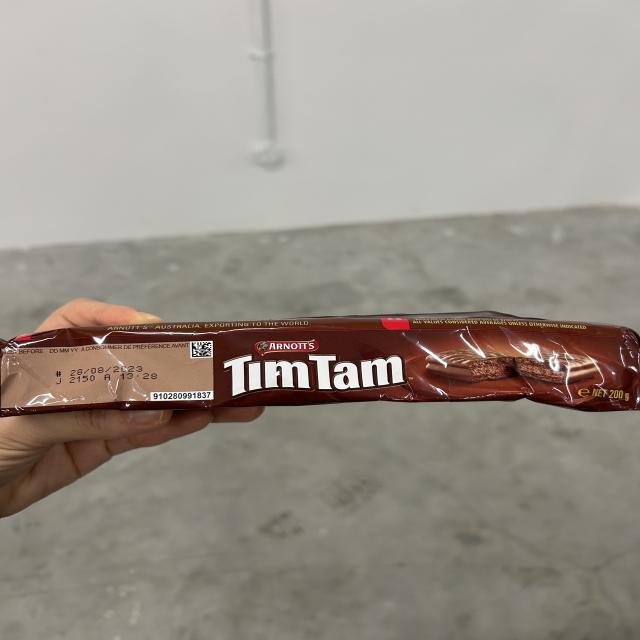object_name: (3, 331, 640, 410)
